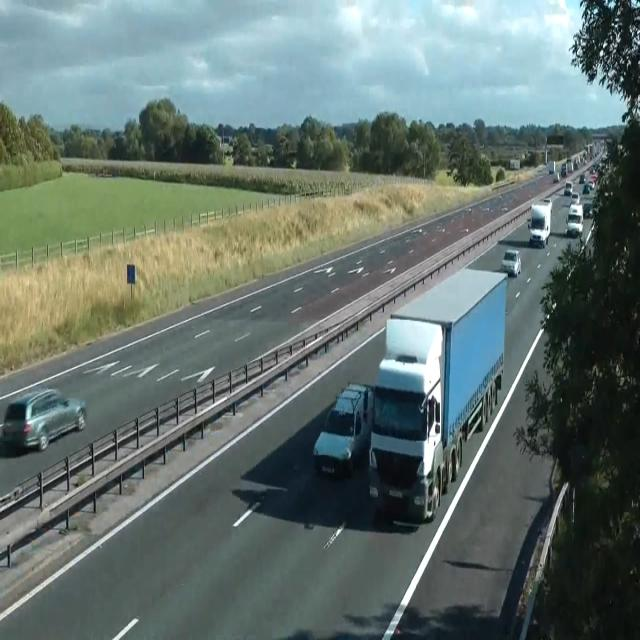bus: (501, 249, 521, 276), (582, 200, 593, 218), (570, 191, 579, 205), (582, 183, 590, 193), (579, 173, 585, 183), (553, 172, 559, 182), (500, 207, 508, 213)
jeep: (313, 382, 373, 478), (2, 387, 86, 452), (564, 202, 584, 236), (564, 180, 572, 194)
minibus: (368, 266, 508, 522), (528, 197, 552, 248), (509, 159, 520, 170), (547, 160, 555, 173), (561, 164, 567, 176)
